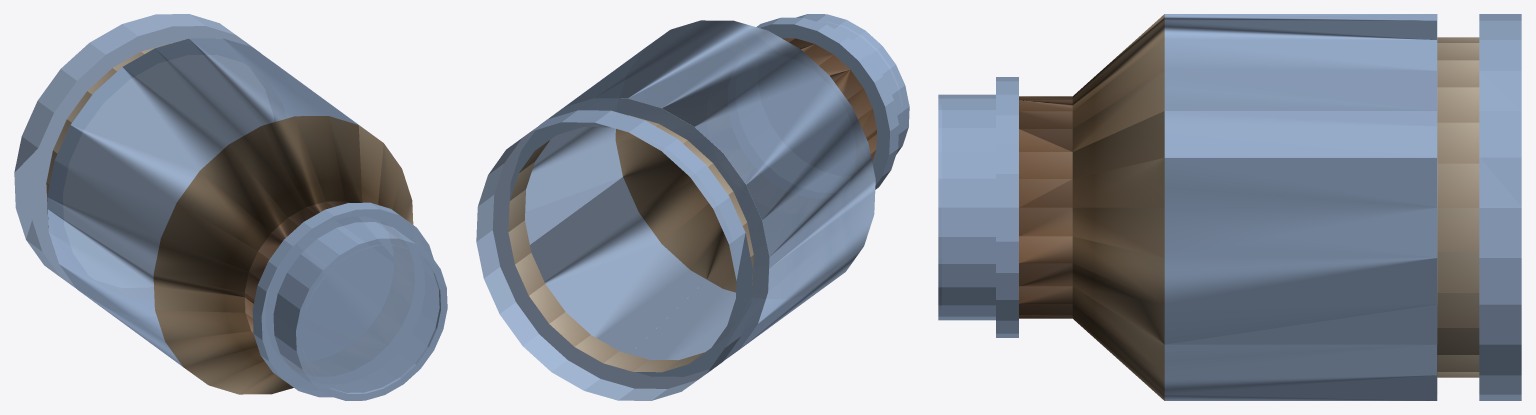
The model's file is model_align.obj.
The picture shows the model from 3 angles, left to right: view 1: azimuth 30°, elevation 25°; view 2: azimuth 150°, elevation 25°; view 3: azimuth 270°, elevation 25°; orthographic projection. The views are drawn at different scales.
Bounding box in the file's own units: 0.1408 × 0.1408 × 0.2131.
